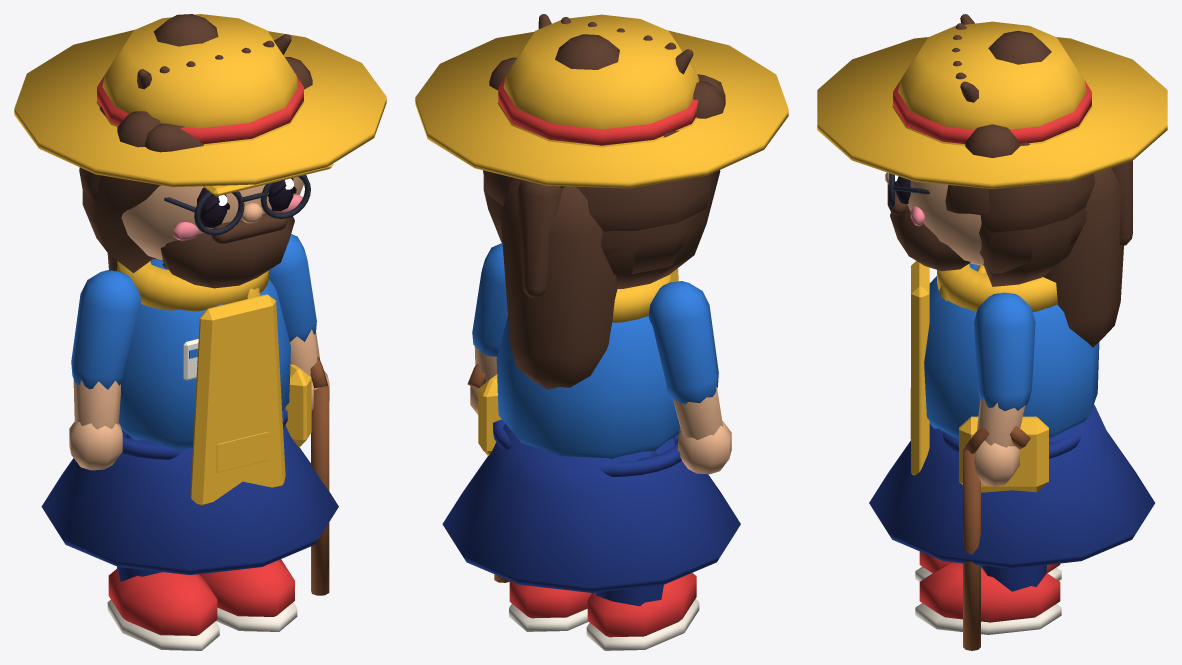
Rendered from elder.glb.
3 renders of one model, left to right at view 1: azimuth 30°, elevation 25°; view 2: azimuth 150°, elevation 25°; view 3: azimuth 270°, elevation 25°, orthographic. The views are drawn at different scales.
Visible parts, largest first — view 1: Acc_sunhat_Accent, Acc_skirt_Bottom, Acc_apron_Accent, Body_Top, Acc_beard_Hair, ArmL_Top, LegL_Shoes, Head_Skin, ArmL_Skin, LegR_Shoes, Acc_scarf_Accent, Acc_cane_Gloss (+18 smaller); view 2: Acc_sunhat_Accent, Acc_skirt_Bottom, Hair_long_Hair, Body_Top, Hair_curls_Hair, ArmL_Top, LegL_Shoes, Hair_pony_Hair, Acc_sunhat_Satin, ArmL_Skin, ArmR_Top, Hair_bob_Hair (+10 smaller); view 3: Acc_sunhat_Accent, Acc_skirt_Bottom, Body_Top, Hair_long_Hair, ArmR_Top, Hair_curls_Hair, LegR_Shoes, Acc_cane_Gloss, Acc_apron_Accent, Hair_bob_Hair, Head_Skin, Acc_scarf_Accent (+10 smaller).
Part boxes in pixels (bbox=[...]): Acc_sunhat_Accent: bbox=[14, 14, 386, 187]; Acc_skirt_Bottom: bbox=[41, 425, 338, 575]; Acc_apron_Accent: bbox=[190, 294, 285, 505]; Body_Top: bbox=[118, 258, 290, 449]; Acc_beard_Hair: bbox=[160, 211, 294, 288]; ArmL_Top: bbox=[71, 270, 141, 389]; LegL_Shoes: bbox=[108, 569, 217, 635]; Head_Skin: bbox=[121, 177, 303, 259]; ArmL_Skin: bbox=[69, 379, 122, 470]; LegR_Shoes: bbox=[199, 559, 294, 616]; Acc_scarf_Accent: bbox=[117, 261, 269, 311]; Acc_cane_Gloss: bbox=[310, 357, 329, 595]; Acc_sunhat_Accent: bbox=[415, 14, 788, 188]; Acc_skirt_Bottom: bbox=[442, 423, 740, 592]; Hair_long_Hair: bbox=[483, 170, 720, 389]; Body_Top: bbox=[496, 316, 680, 458]; Hair_curls_Hair: bbox=[483, 57, 725, 231]; ArmL_Top: bbox=[648, 281, 718, 404]; LegL_Shoes: bbox=[587, 573, 696, 637]; Hair_pony_Hair: bbox=[517, 179, 565, 297]; Acc_sunhat_Satin: bbox=[498, 76, 698, 145]; ArmL_Skin: bbox=[673, 386, 731, 474]; ArmR_Top: bbox=[472, 243, 507, 356]; Hair_bob_Hair: bbox=[485, 183, 710, 274]; Acc_sunhat_Accent: bbox=[817, 21, 1167, 189]; Acc_skirt_Bottom: bbox=[869, 404, 1154, 568]; Body_Top: bbox=[924, 263, 1099, 438]; Hair_long_Hair: bbox=[958, 168, 1123, 347]; ArmR_Top: bbox=[974, 292, 1035, 410]; Hair_curls_Hair: bbox=[965, 124, 1095, 232]; LegR_Shoes: bbox=[919, 562, 1060, 622]; Acc_cane_Gloss: bbox=[963, 426, 1030, 650]; Acc_apron_Accent: bbox=[910, 261, 986, 475]; Hair_bob_Hair: bbox=[945, 185, 1086, 273]; Head_Skin: bbox=[885, 172, 983, 266]; Acc_scarf_Accent: bbox=[937, 265, 1057, 311].
Size of the model in its own units: 0.875 by 1.54 by 0.853.
